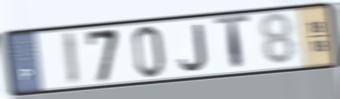0: (130, 24, 168, 80)
7: (85, 28, 121, 85)
8: (257, 12, 301, 69)
I: (60, 30, 81, 87)
J: (178, 22, 209, 72)
T: (212, 13, 252, 73)
